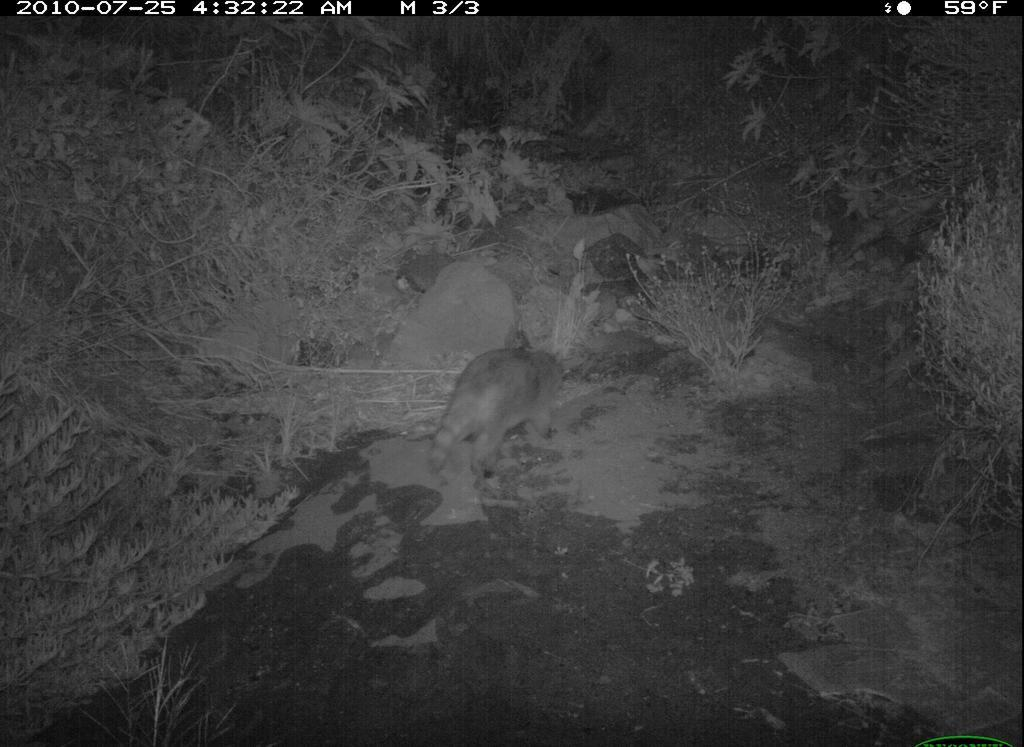raccoon: (424, 345, 577, 497)
